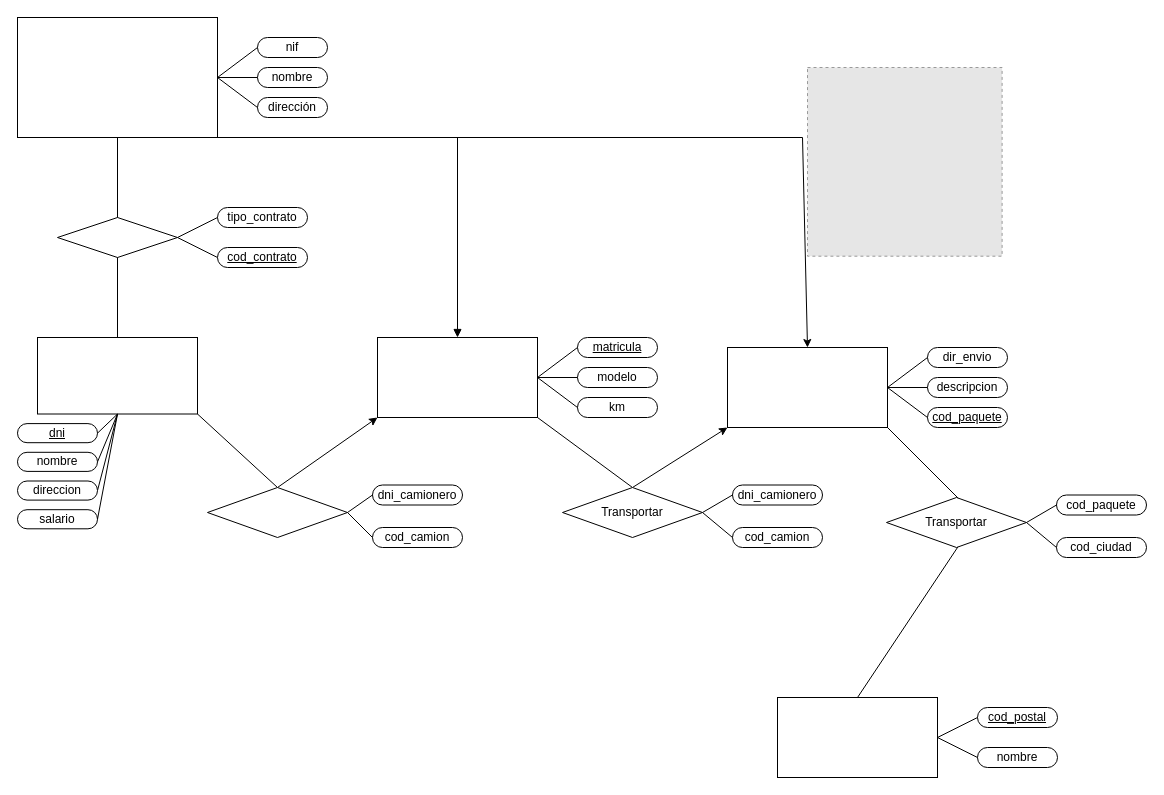
This 1164x795 diagram has some shape labels left out. Grey dashed boxes stand in for pictures. Each missing label, with the centre of its shape:
"Agencia de Transporte" goes at (117,77).
"Camion" goes at (457,377).
"Camionero" goes at (117,375).
"Ciudad" goes at (857,737).
"Conducir" goes at (277,512).
"Contrato" goes at (117,237).
"Paquete" goes at (807,387).
